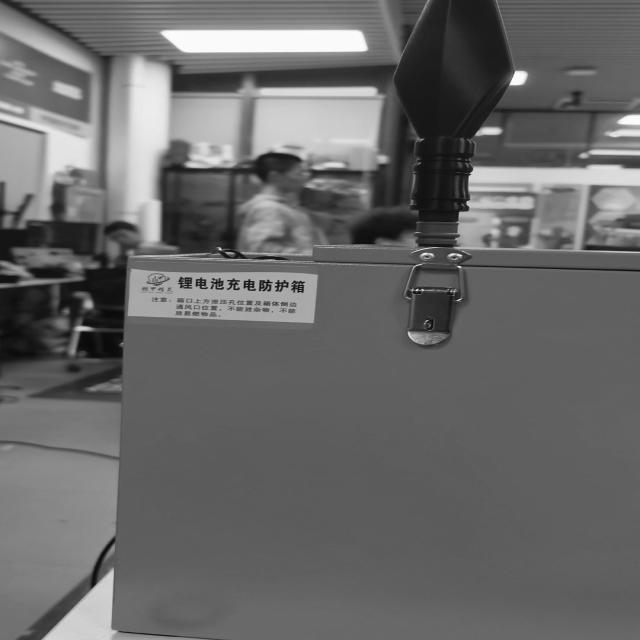base: (414, 220, 461, 248)
